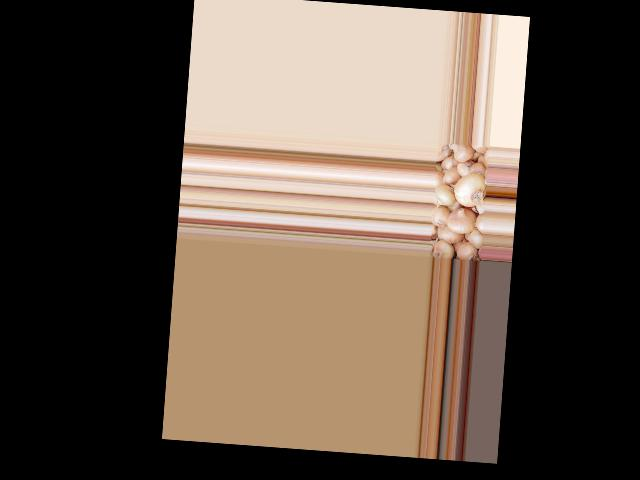onion: (433, 240, 454, 259)
